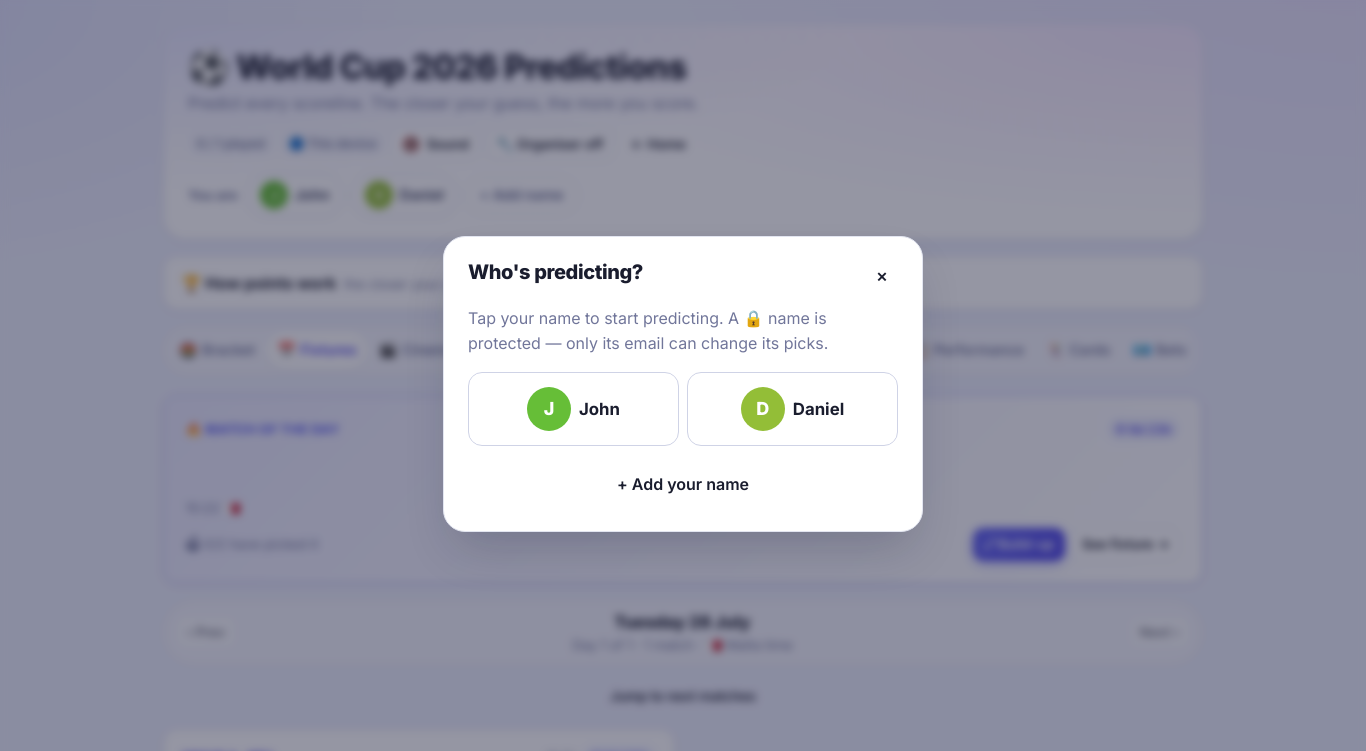
Test case: WorldCupPage › shows team position and form once games are played
expect the heading "⚽ World Cup 2026 Predictions" is shown: met, box [188,47,699,87]
expect the dialog is shown: met, box [443,236,923,532]
Press Escape
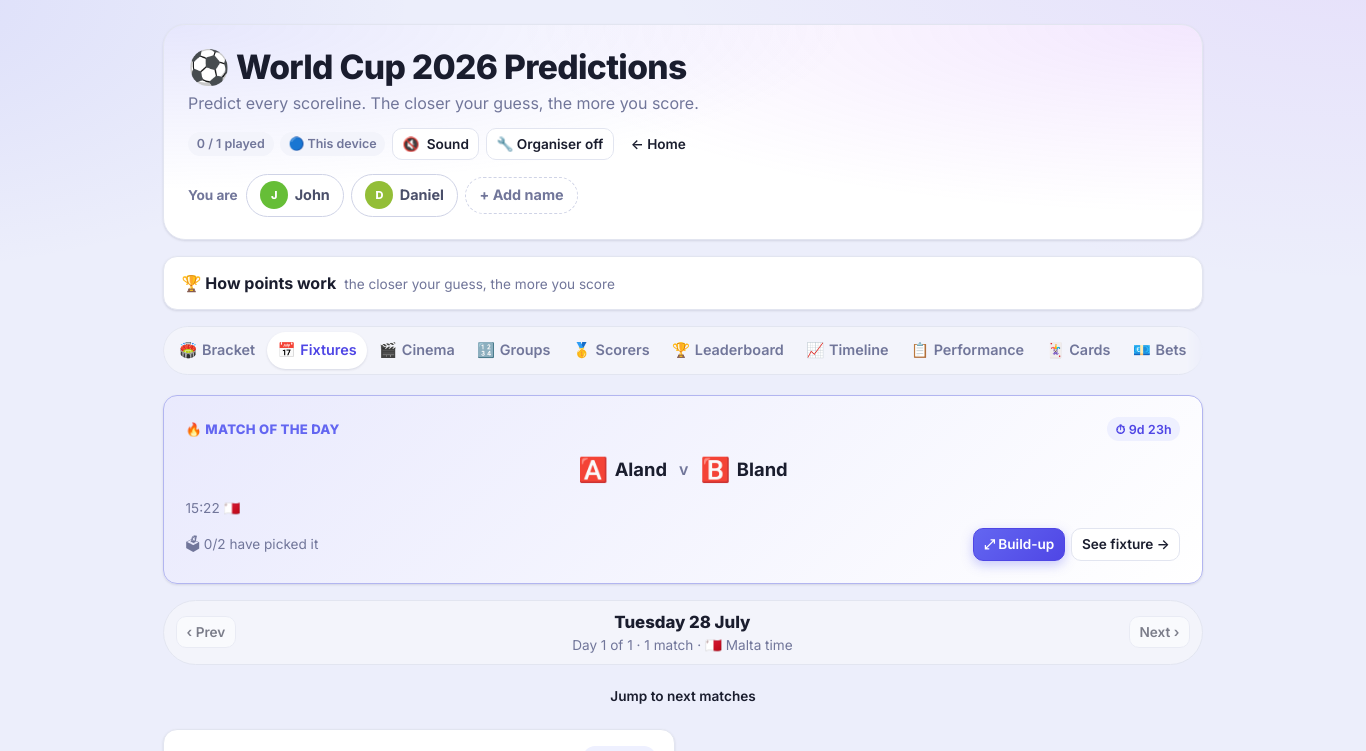
Click the button "🔧 Organiser off": (550, 144) [486,128,614,160]
(page scrolled)
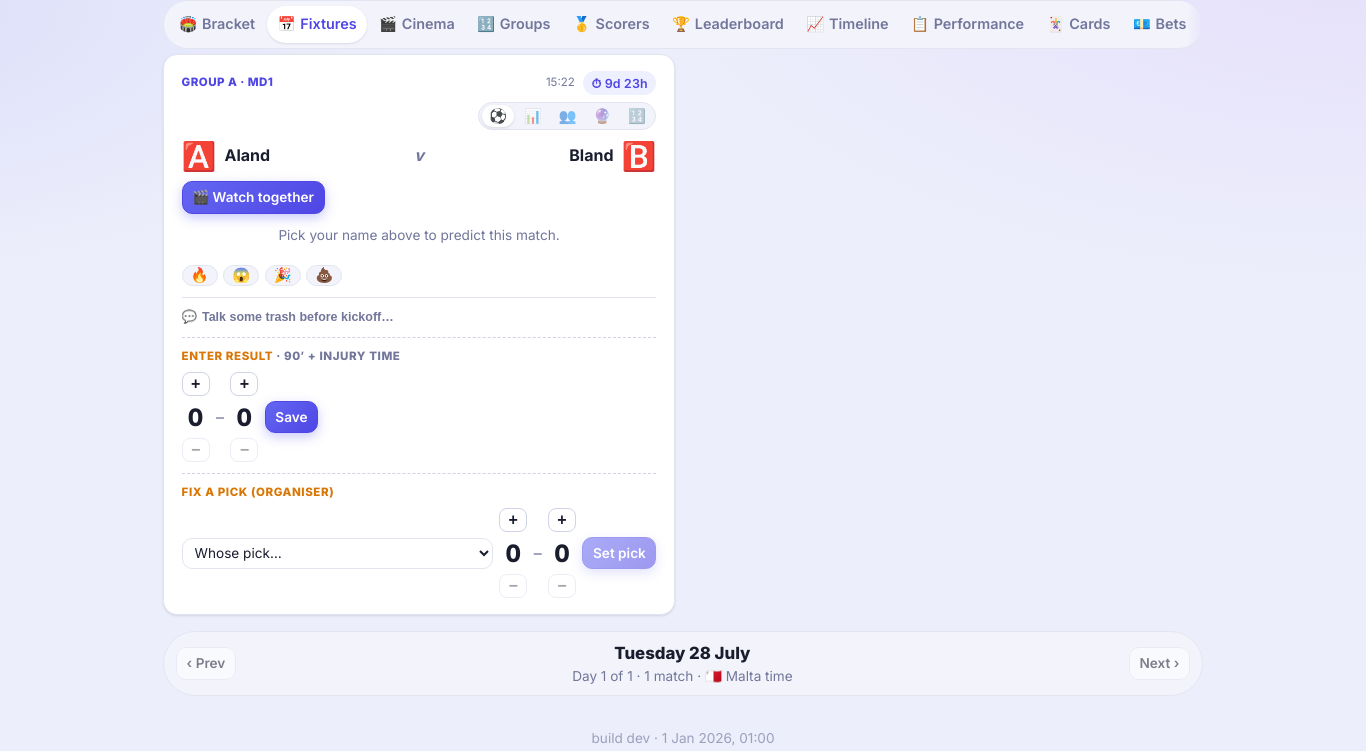
Click the button named "Home result goals: one more": (196, 384) [182,372,210,396]
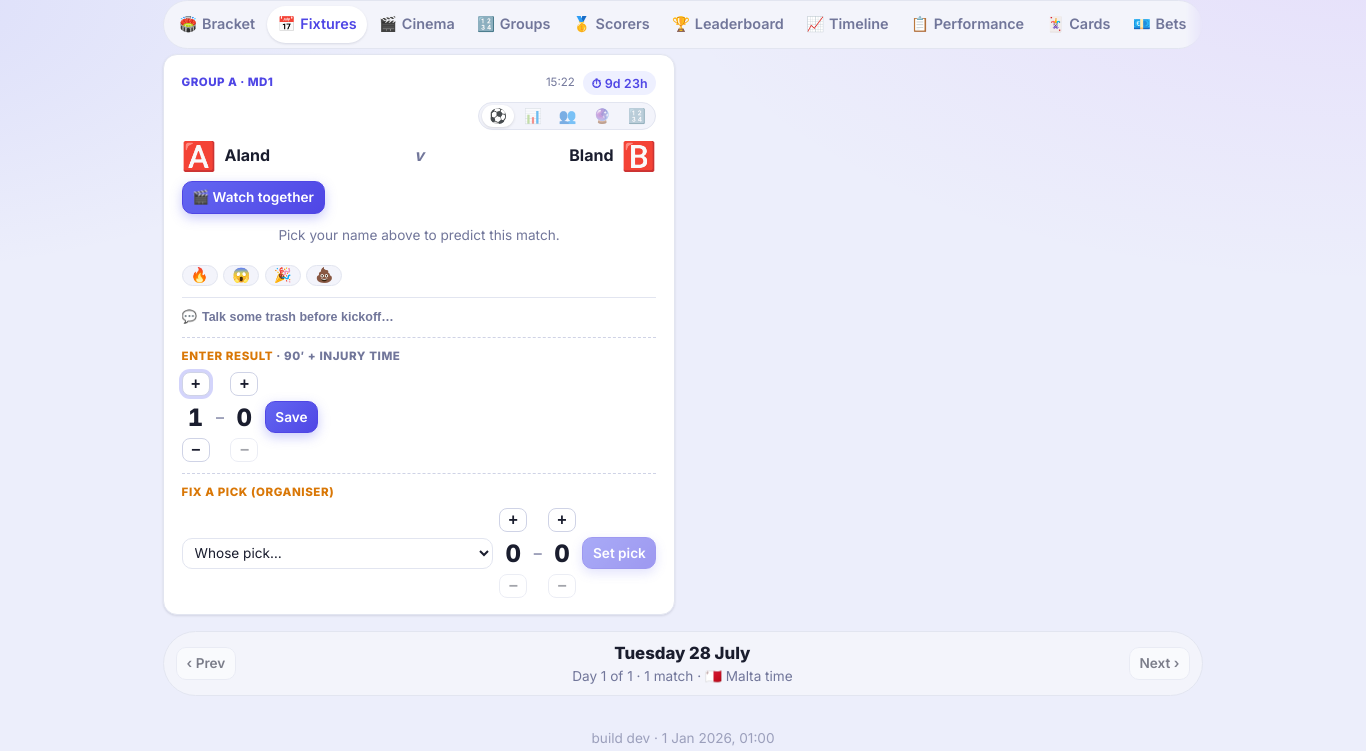
Click the button "Save": (292, 417) [265,401,318,434]
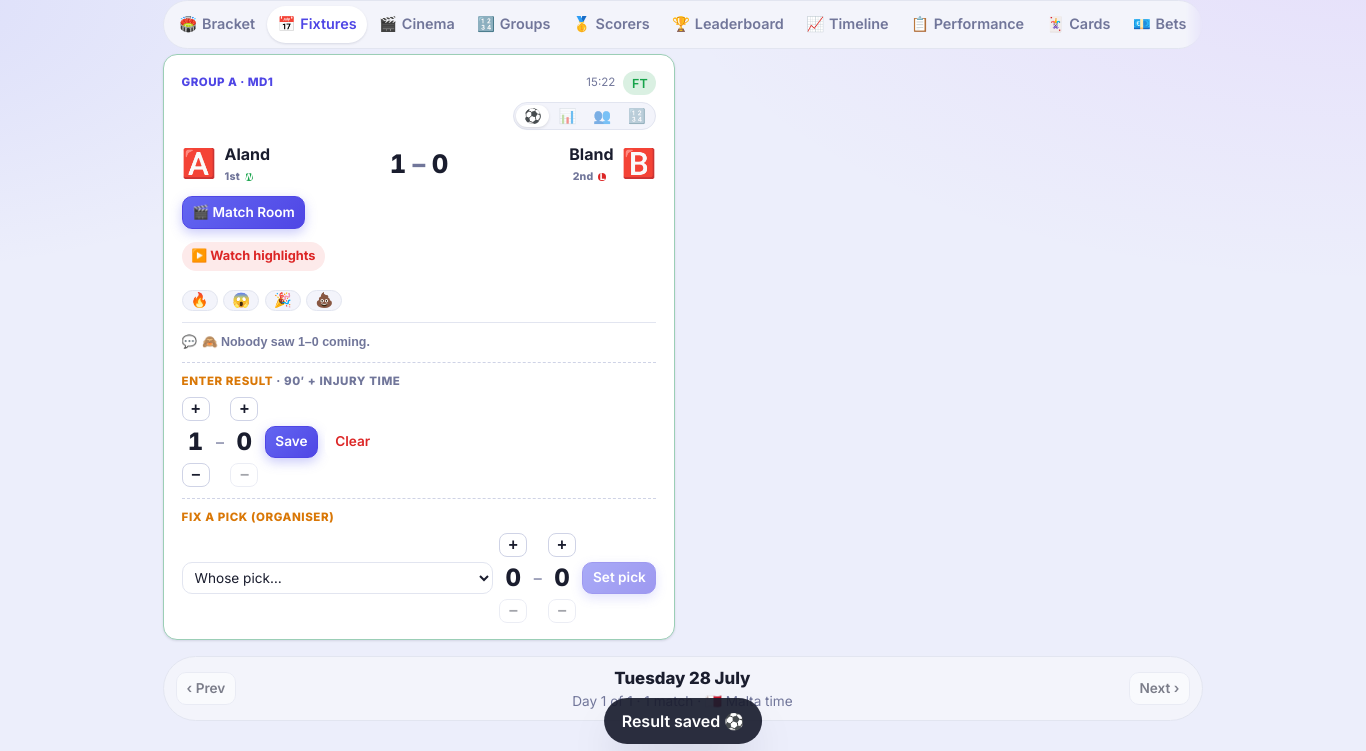
expect the text "FT" is shown: met, box [623,71,656,95]
expect the text "1st" is shown: met, box [224,169,240,185]
expect the text "2nd" is shown: met, box [573,169,594,185]
